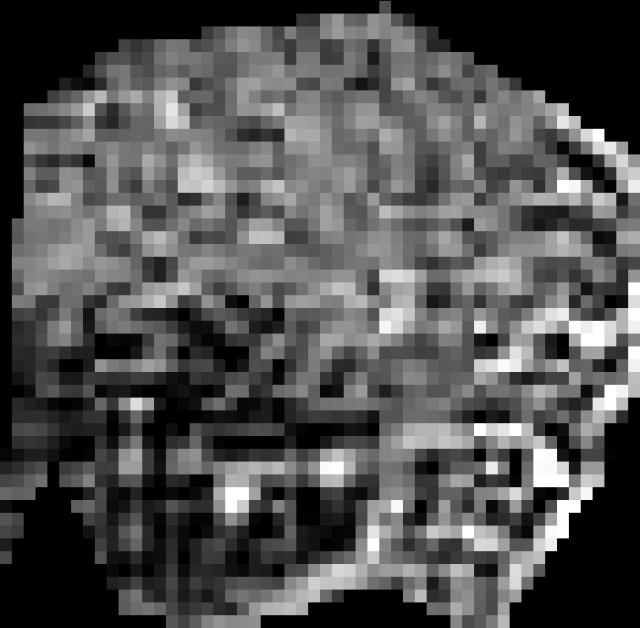tumor_good_chance: (0, 1, 640, 628)
